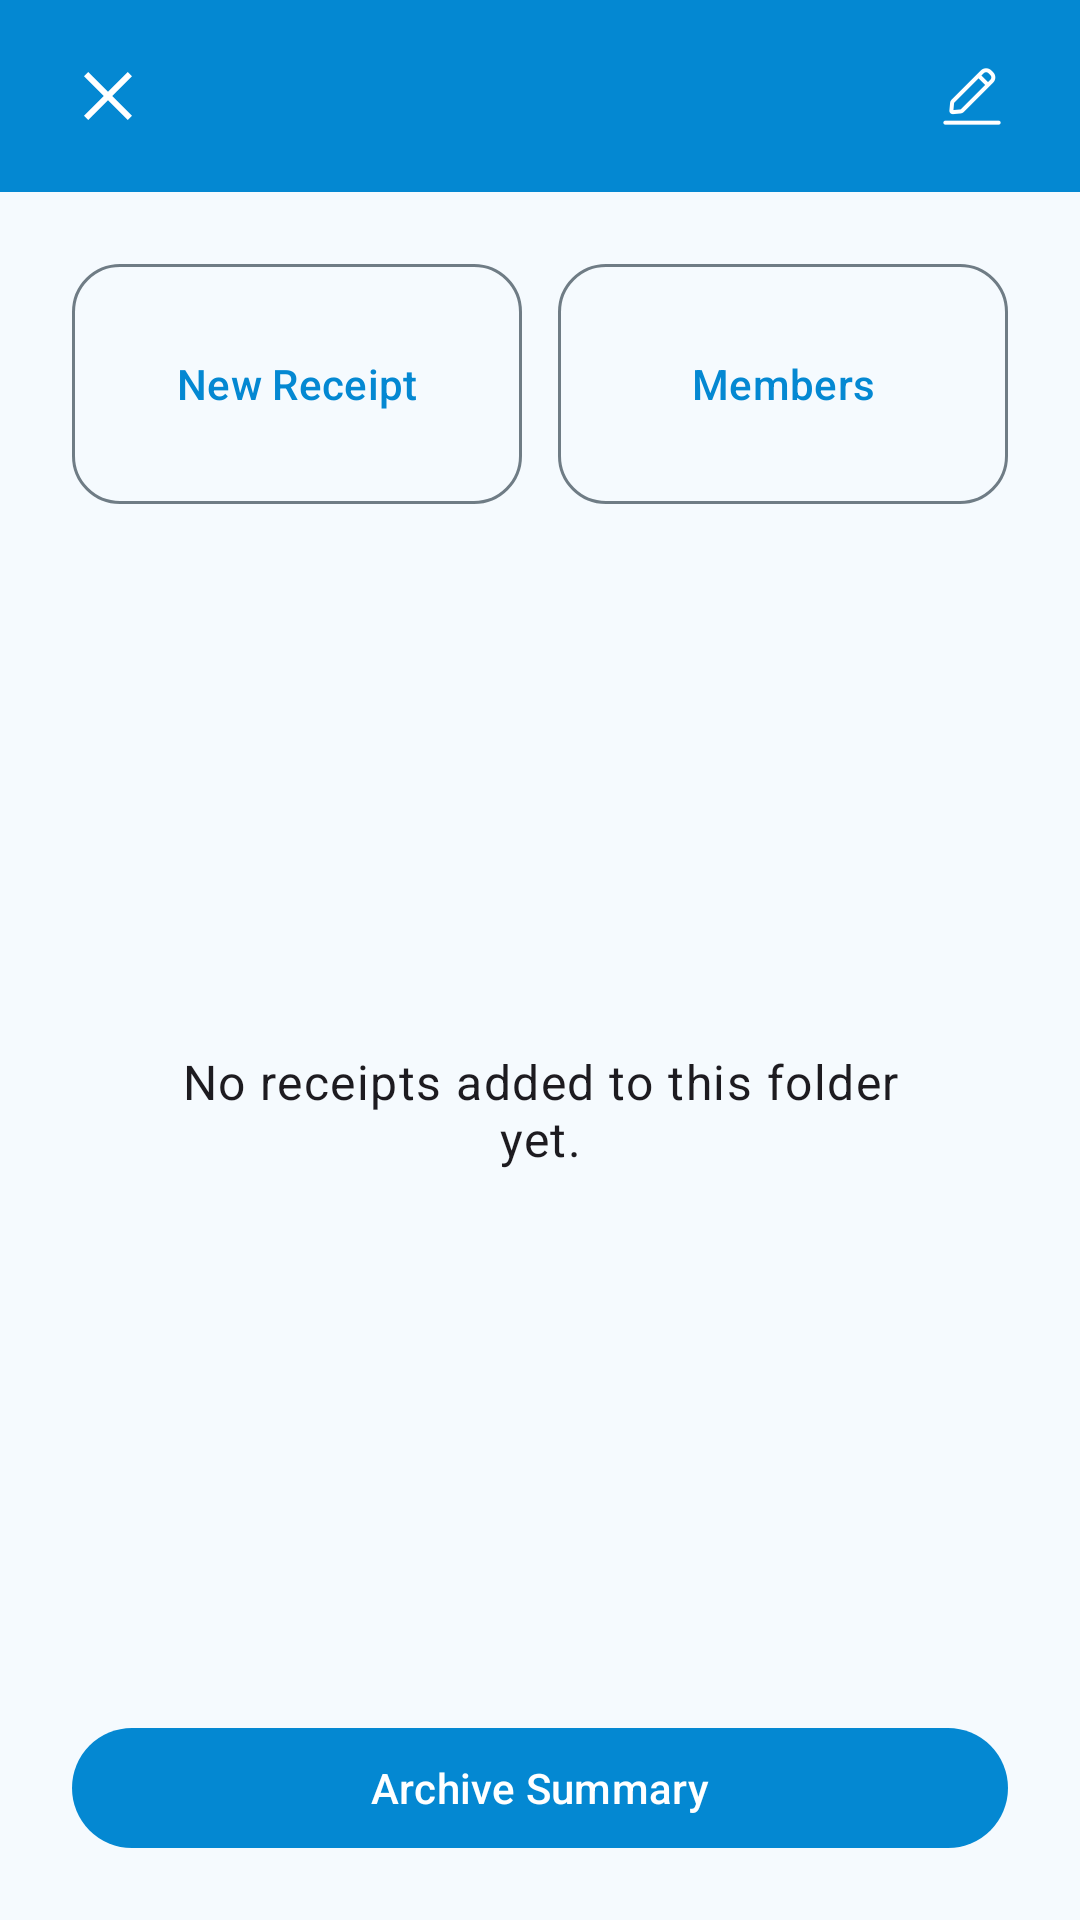

Icons on this 1080×1920 Android screen, each with its box as box=[x1, y1, x2, y2]:
Close: box=[84, 72, 132, 120]
Edit: box=[943, 68, 1001, 125]
